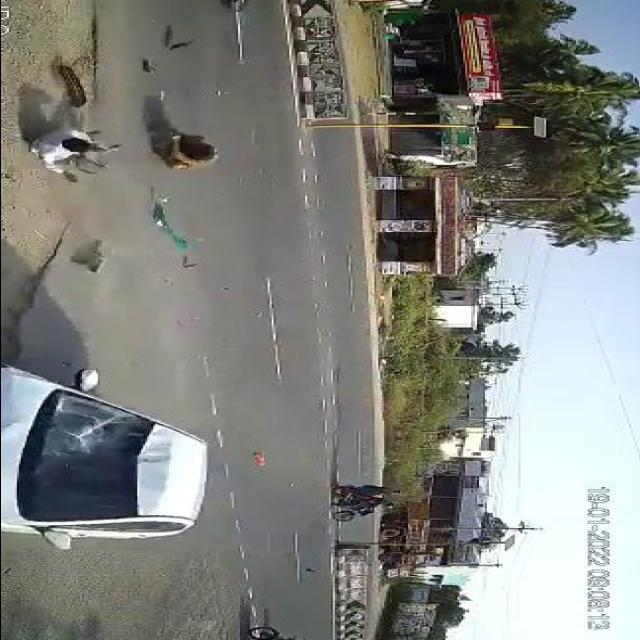accident: (0, 354, 223, 554), (196, 0, 289, 18)
